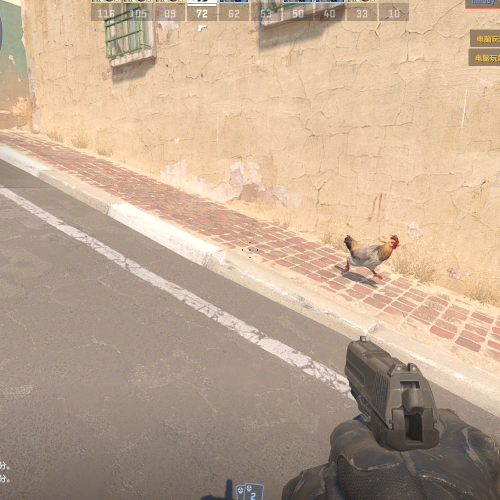chicken: (342, 230, 400, 279)
